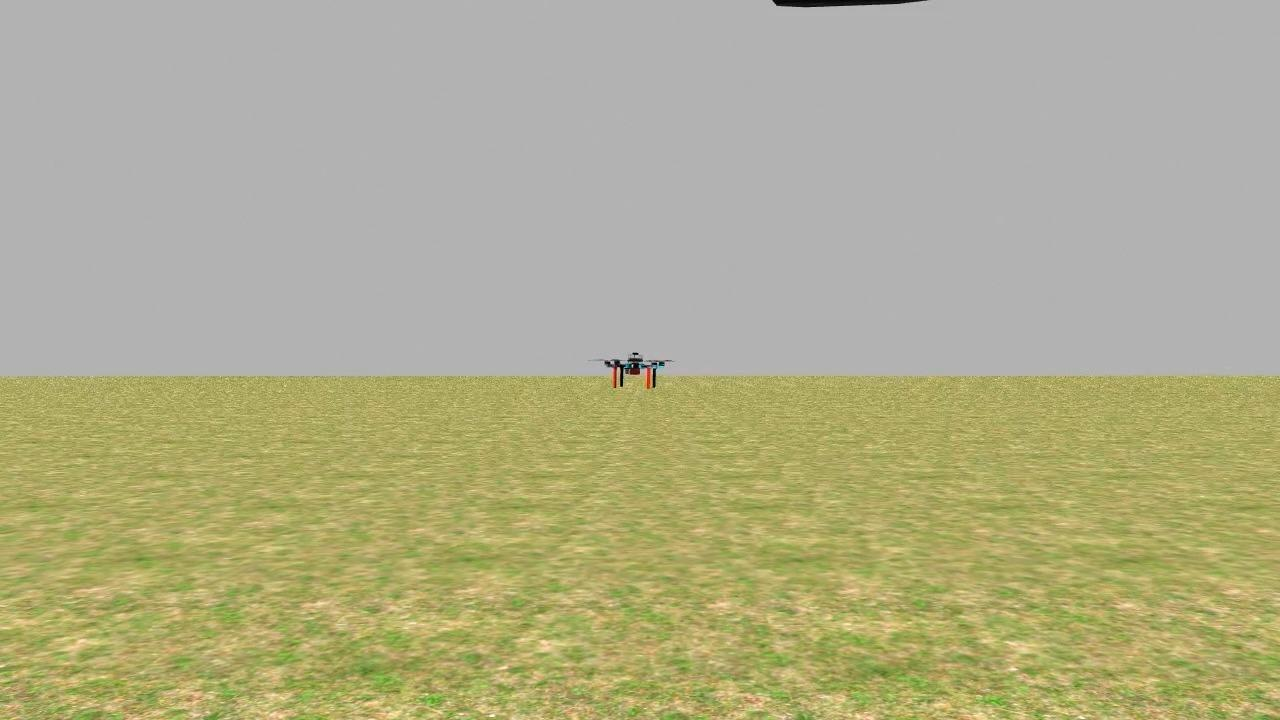UAV: (592, 340, 674, 393)
